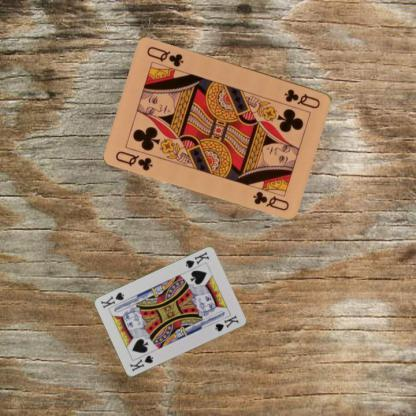Ks: (182, 249, 210, 270), (127, 353, 154, 373)
Qc: (113, 148, 155, 172), (282, 86, 322, 110)
